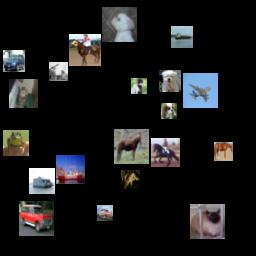airplane: (183, 73, 218, 108)
automobile: (19, 201, 54, 236), (3, 50, 25, 72)
bird: (131, 78, 147, 94)
cat: (190, 204, 225, 239), (9, 79, 38, 108)
dog: (102, 7, 137, 42), (159, 70, 181, 92), (161, 103, 177, 119)
frog: (3, 130, 29, 156), (121, 170, 140, 189)
ship: (56, 155, 85, 184), (29, 168, 55, 194), (171, 26, 193, 48)
truck: (49, 62, 68, 81), (97, 205, 113, 221)
